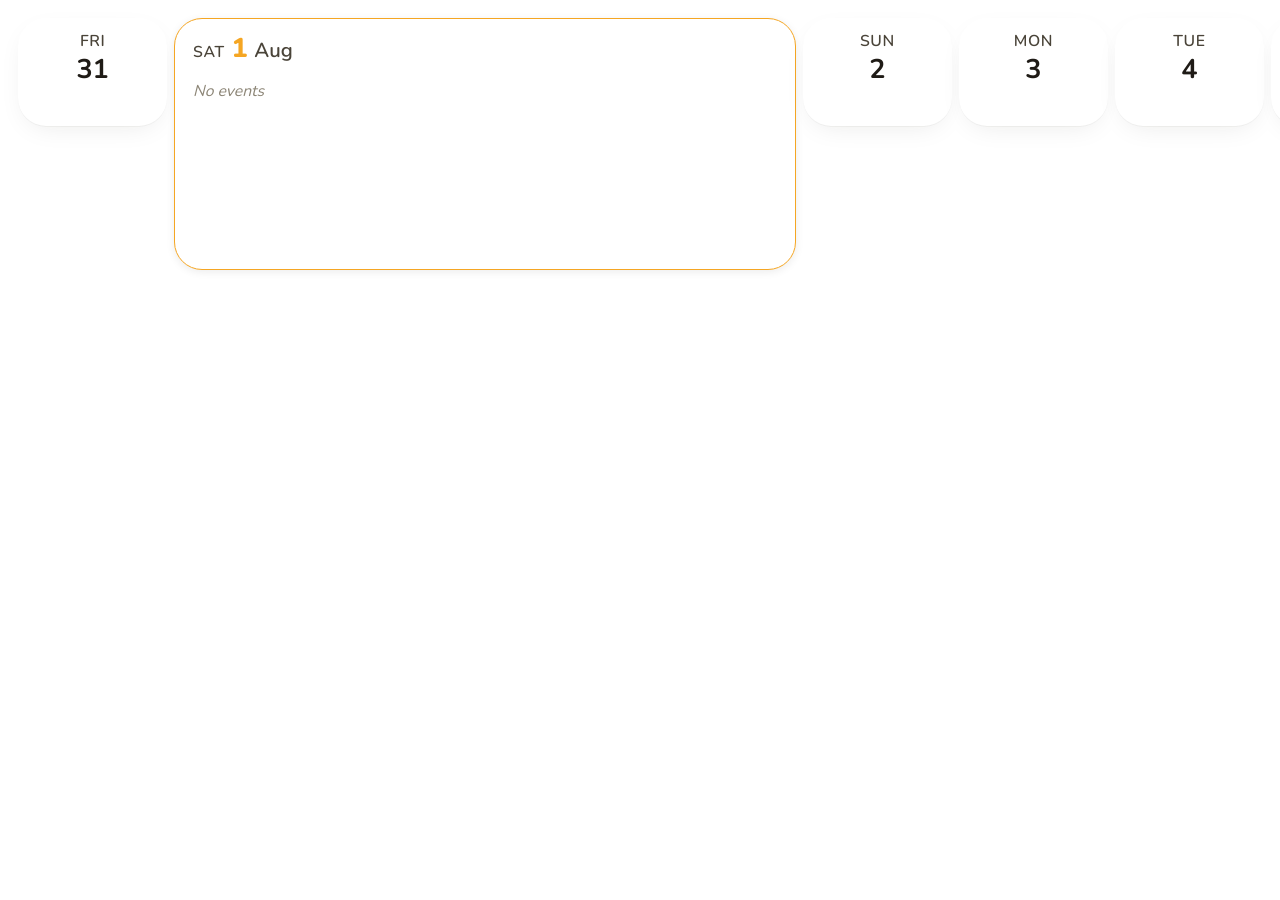
DayCarousel › day view modal can be closed
Click the button "Sat 1 Aug No events".
click(485, 144)  # box [174, 18, 796, 270]
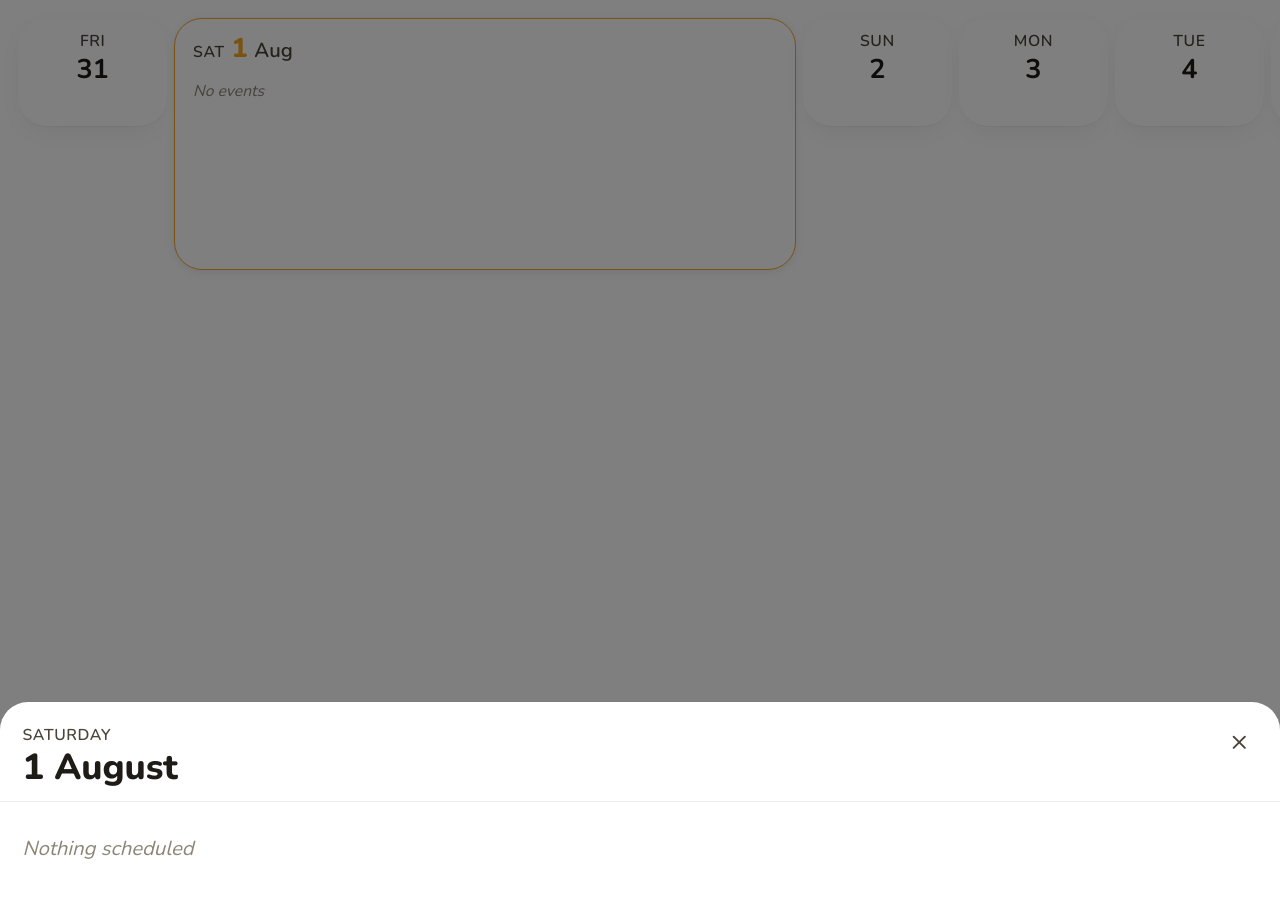
Click the button named "Close day view".
click(1240, 742)  # box [1222, 724, 1258, 760]
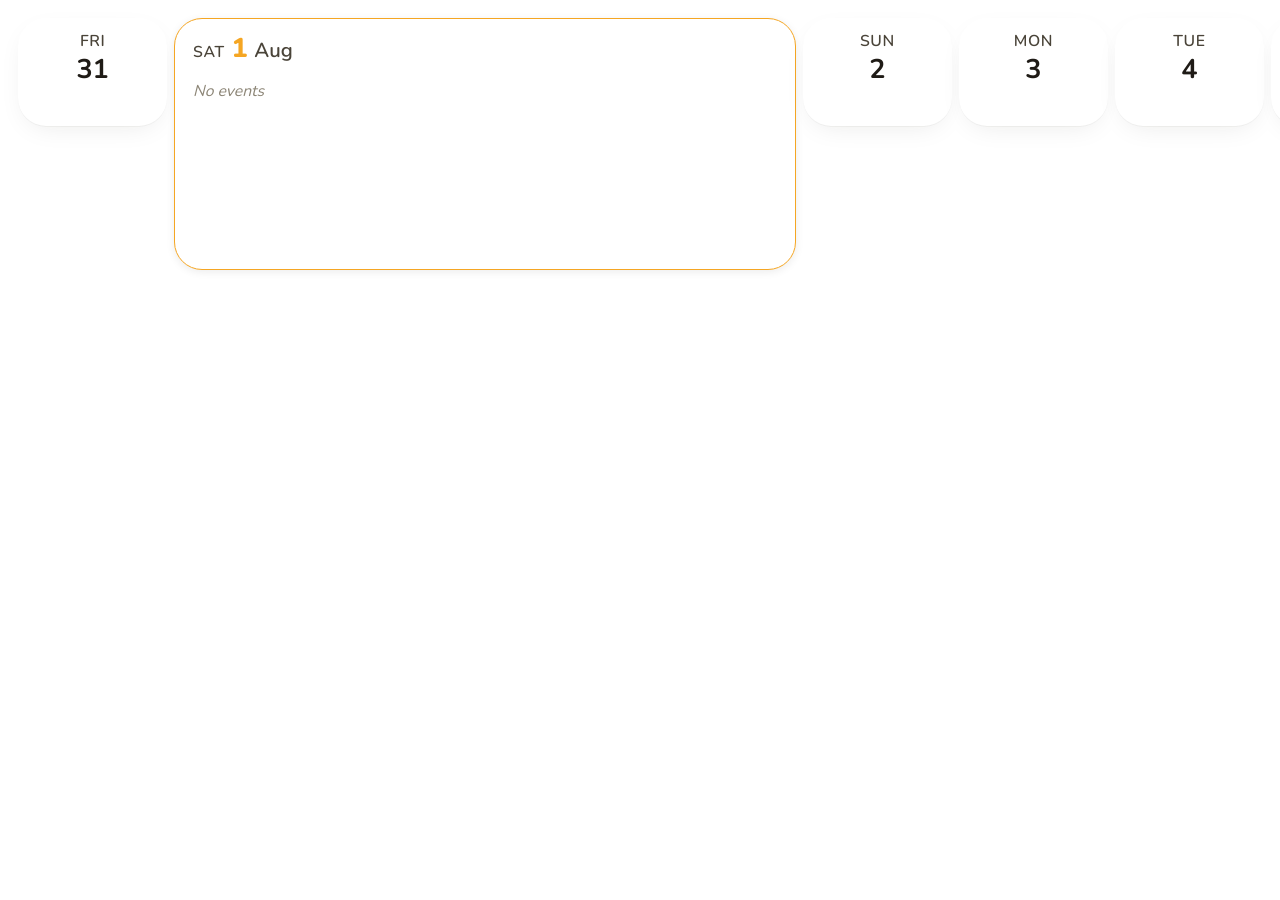
Check: the dialog is gone
